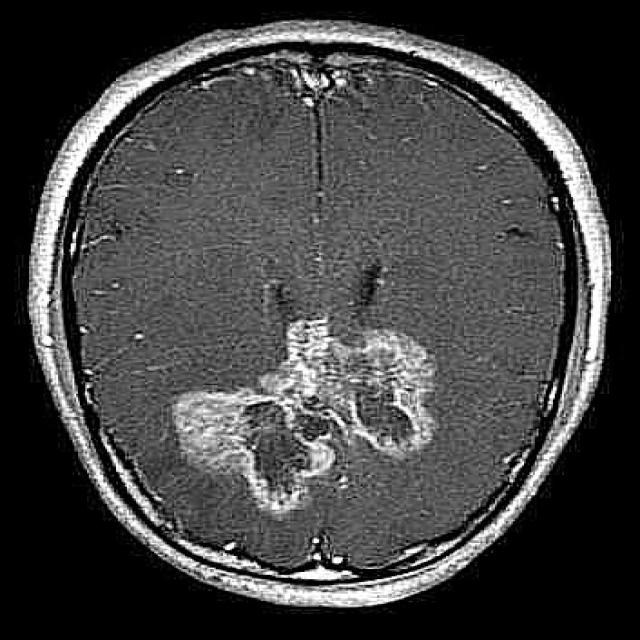Tumor-Cell: (157, 352, 430, 499)
